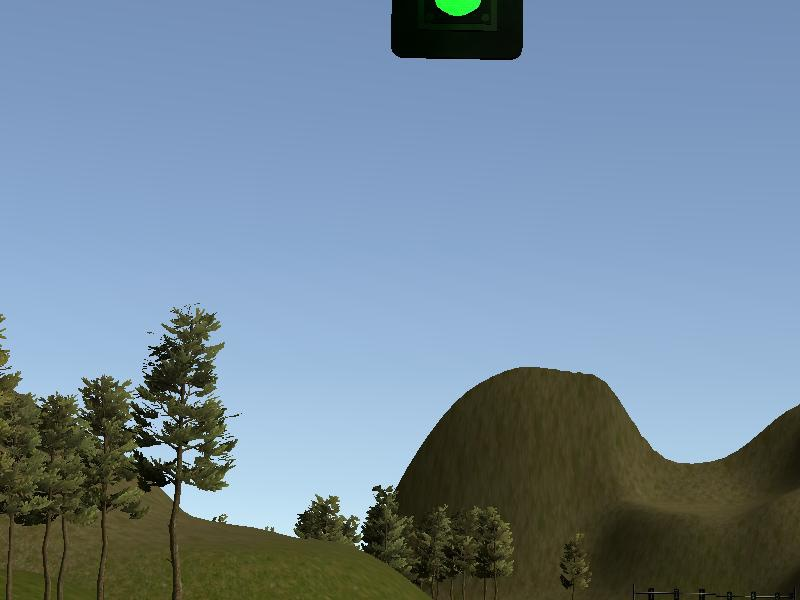Green: (387, 1, 525, 63)
